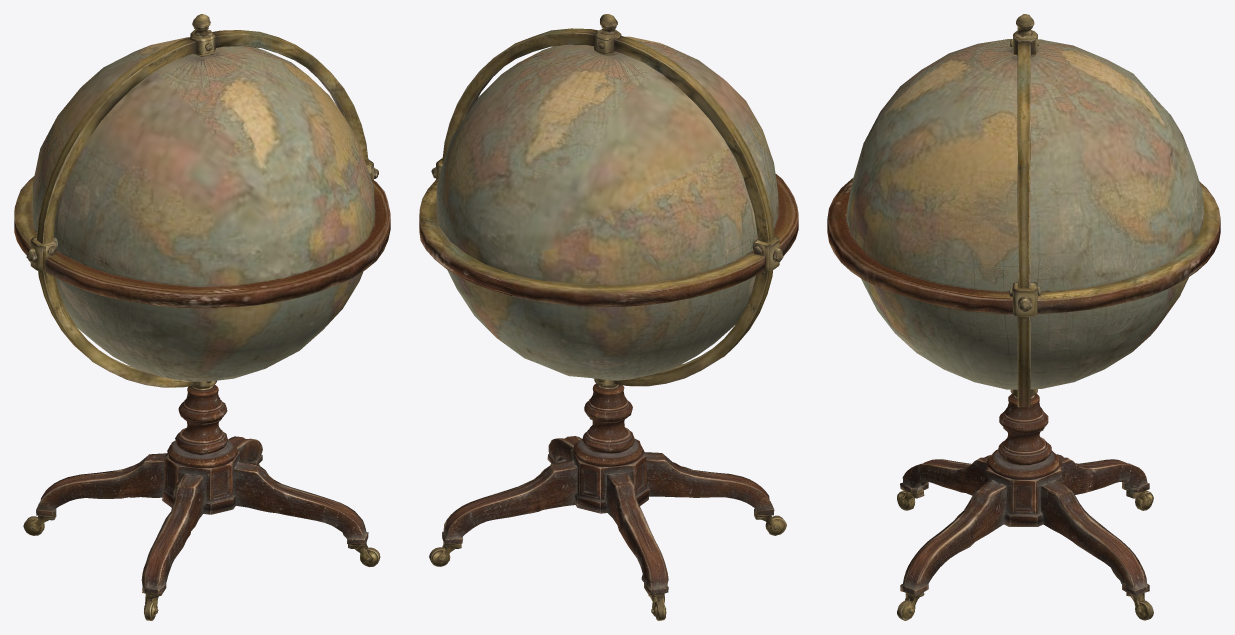
File: skyways-d-sc-globe.glb
3 views of the same model, side by side, from view 1: azimuth 30°, elevation 25°; view 2: azimuth 150°, elevation 25°; view 3: azimuth 270°, elevation 25° (orthographic). The views are drawn at different scales.
Parts seen in each view (by area): view 1: skyways-d-sc-globe; view 2: skyways-d-sc-globe; view 3: skyways-d-sc-globe.
Boxes of the visible parts, left/top/right/bottom form: skyways-d-sc-globe: left=14, top=14, right=390, bottom=620; skyways-d-sc-globe: left=419, top=14, right=798, bottom=620; skyways-d-sc-globe: left=827, top=14, right=1220, bottom=620.
Bounding box in the file's own units: 0.8257 × 1.2 × 0.7776.
1 material, 1 textured.
